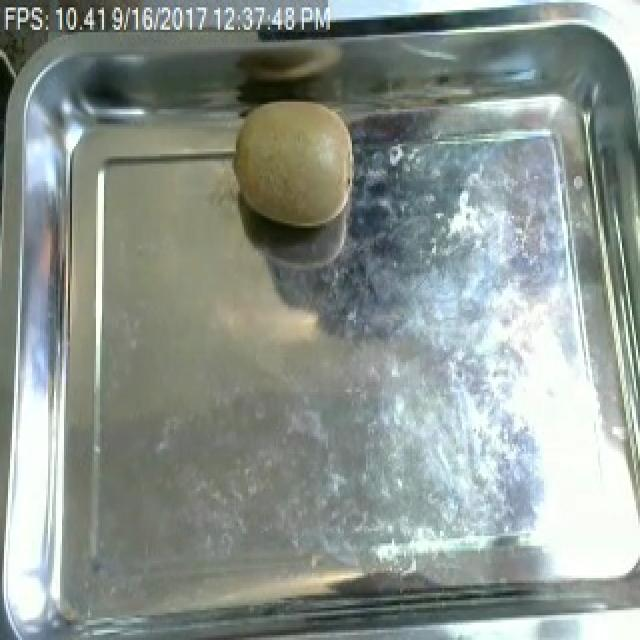Fruit: (228, 89, 364, 236)
